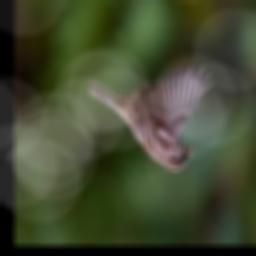Sparrow: (90, 60, 214, 172)
